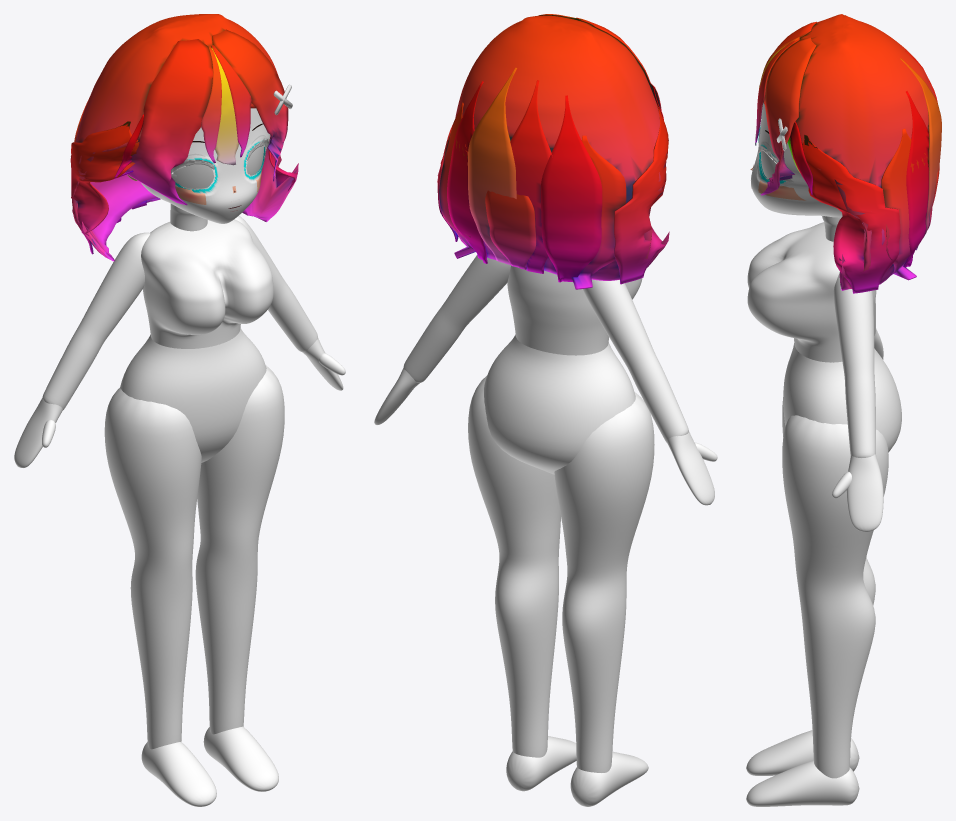
File: MG_ToonTest_01_v6e_B_eye.fbx
3 views of the same model, side by side, from view 1: azimuth 30°, elevation 25°; view 2: azimuth 150°, elevation 25°; view 3: azimuth 270°, elevation 25° (orthographic). The views are drawn at different scales.
Parts seen in each view (by area): view 1: Blockout_Leg.R, Blockout_Leg.L, hair_bob_01__Bangs, Blockout_Torso, hair_bob_01__Volume, Blockout_Pelvis, Blockout_Arm.R, Blockout_Head, hair_bob_01__Side_R, Blockout_Foot.R, Blockout_Foot.L, Blockout_Arm.L (+4 smaller); view 2: Blockout_Leg.R, hair_bob_01__Back, hair_bob_01__Volume, Blockout_Leg.L, Blockout_Pelvis, hair_bob_01__Side_R, Blockout_Torso, Blockout_Arm.R, Blockout_Arm.L, Blockout_Foot.R, Blockout_Foot.L, Blockout_Hand.R (+2 smaller); view 3: Blockout_Leg.L, hair_bob_01__Volume, hair_bob_01__Side_L, Blockout_Torso, Blockout_Pelvis, Blockout_Arm.L, hair_bob_01__Bangs, hair_bob_01__Back, Blockout_Foot.L, Blockout_Hand.L, Blockout_Head, Blockout_Foot.R (+3 smaller).
Part boxes in pixels (bbox=[...]): Blockout_Leg.R: bbox=[104, 388, 201, 749]; Blockout_Leg.L: bbox=[195, 365, 284, 734]; hair_bob_01__Bangs: bbox=[125, 29, 288, 205]; Blockout_Torso: bbox=[141, 219, 273, 348]; hair_bob_01__Volume: bbox=[72, 14, 298, 261]; Blockout_Pelvis: bbox=[120, 328, 266, 462]; Blockout_Arm.R: bbox=[42, 232, 150, 409]; Blockout_Head: bbox=[141, 108, 270, 223]; hair_bob_01__Side_R: bbox=[70, 81, 139, 254]; Blockout_Foot.R: bbox=[141, 742, 216, 806]; Blockout_Foot.L: bbox=[203, 726, 278, 791]; Blockout_Arm.L: bbox=[235, 216, 317, 352]; Blockout_Leg.R: bbox=[554, 392, 654, 772]; hair_bob_01__Back: bbox=[447, 67, 602, 282]; hair_bob_01__Volume: bbox=[437, 15, 669, 280]; Blockout_Leg.L: bbox=[468, 376, 560, 757]; Blockout_Pelvis: bbox=[484, 334, 635, 474]; hair_bob_01__Side_R: bbox=[571, 102, 668, 289]; Blockout_Torso: bbox=[507, 265, 642, 355]; Blockout_Arm.R: bbox=[582, 279, 688, 442]; Blockout_Arm.L: bbox=[403, 255, 510, 382]; Blockout_Foot.R: bbox=[570, 751, 648, 806]; Blockout_Foot.L: bbox=[506, 736, 576, 791]; Blockout_Hand.R: bbox=[667, 431, 717, 505]; Blockout_Leg.L: bbox=[782, 415, 888, 778]; hair_bob_01__Volume: bbox=[763, 14, 935, 290]; hair_bob_01__Side_L: bbox=[792, 128, 928, 293]; Blockout_Torso: bbox=[747, 222, 876, 362]; Blockout_Pelvis: bbox=[783, 343, 901, 452]; Blockout_Arm.L: bbox=[833, 272, 875, 457]; hair_bob_01__Bangs: bbox=[755, 21, 817, 195]; hair_bob_01__Back: bbox=[900, 51, 941, 267]; Blockout_Foot.L: bbox=[746, 760, 859, 806]; Blockout_Hand.L: bbox=[832, 454, 883, 532]; Blockout_Head: bbox=[751, 103, 842, 217]; Blockout_Foot.R: bbox=[746, 730, 859, 775].
Size of the model in its own units: 74.75 by 165 by 38.63.
